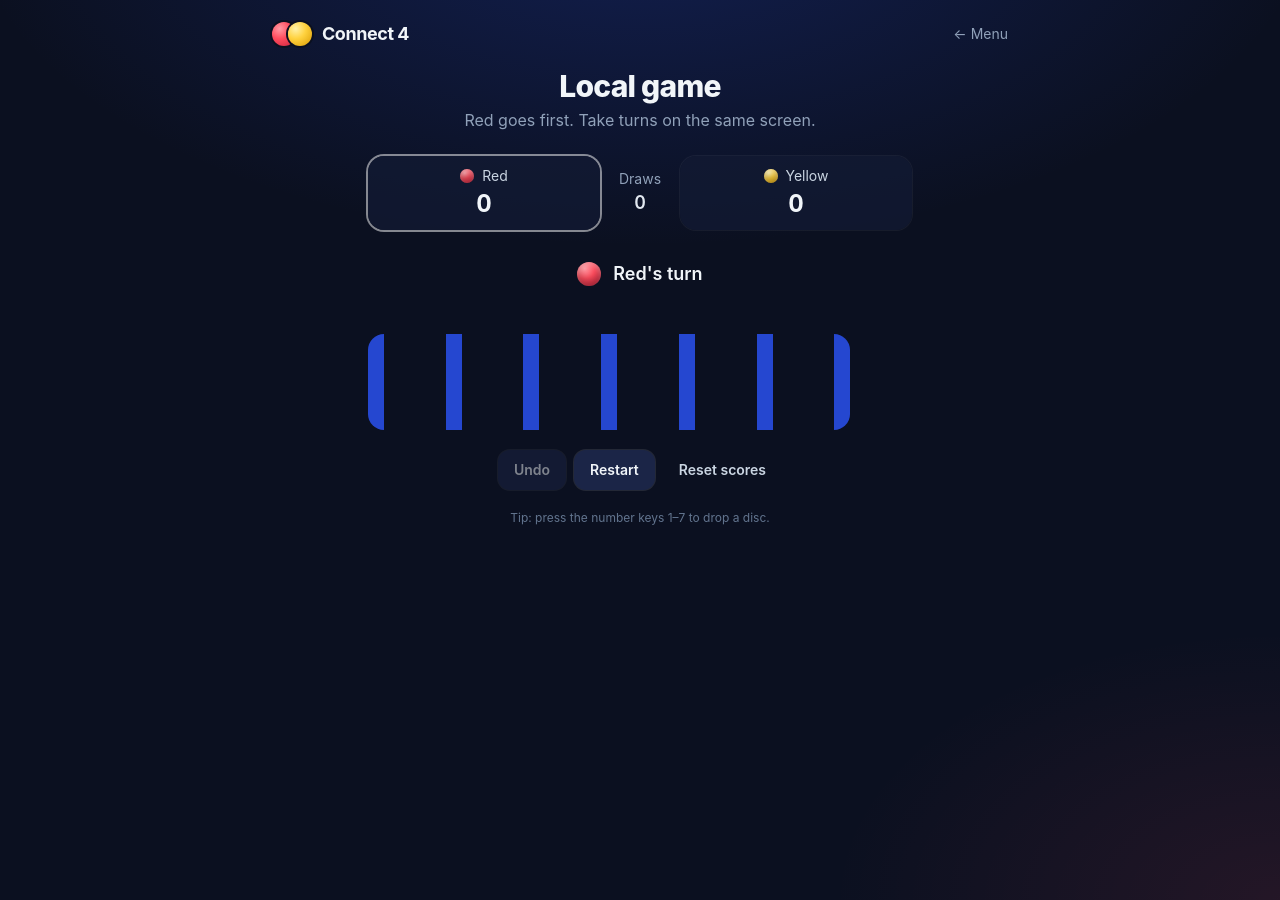
Test: local game › undo takes back the last move
Check: the button "Undo" is disabled, box [498,450,566,490]
Step 1. Click the button named "Drop disc in column 4" → (640, 374), box [601,318,679,430]
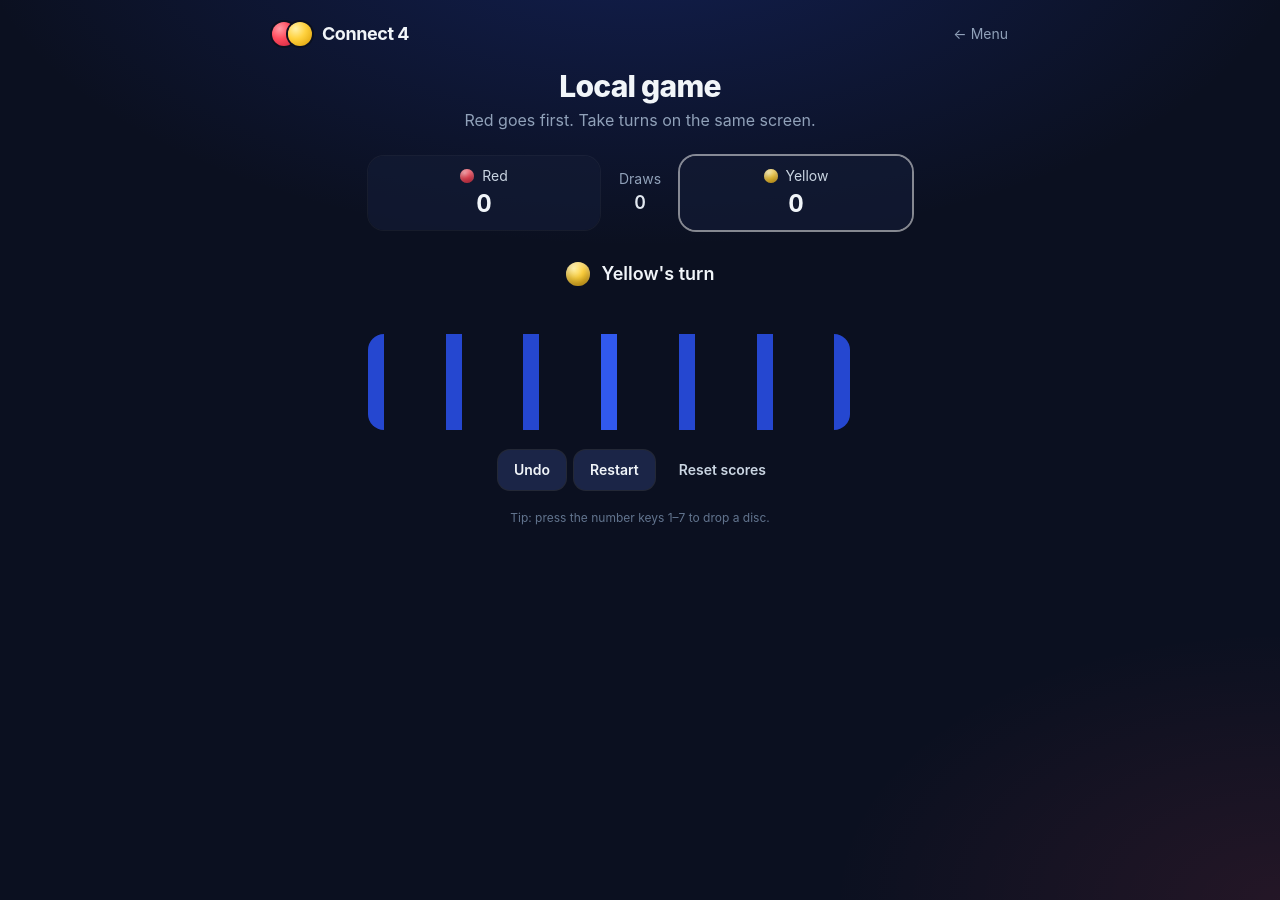
Check: the message reads "Yellow's turn", box [602,263,714,284]
Step 2. Click the button "Undo" → (532, 470), box [498,450,566,490]
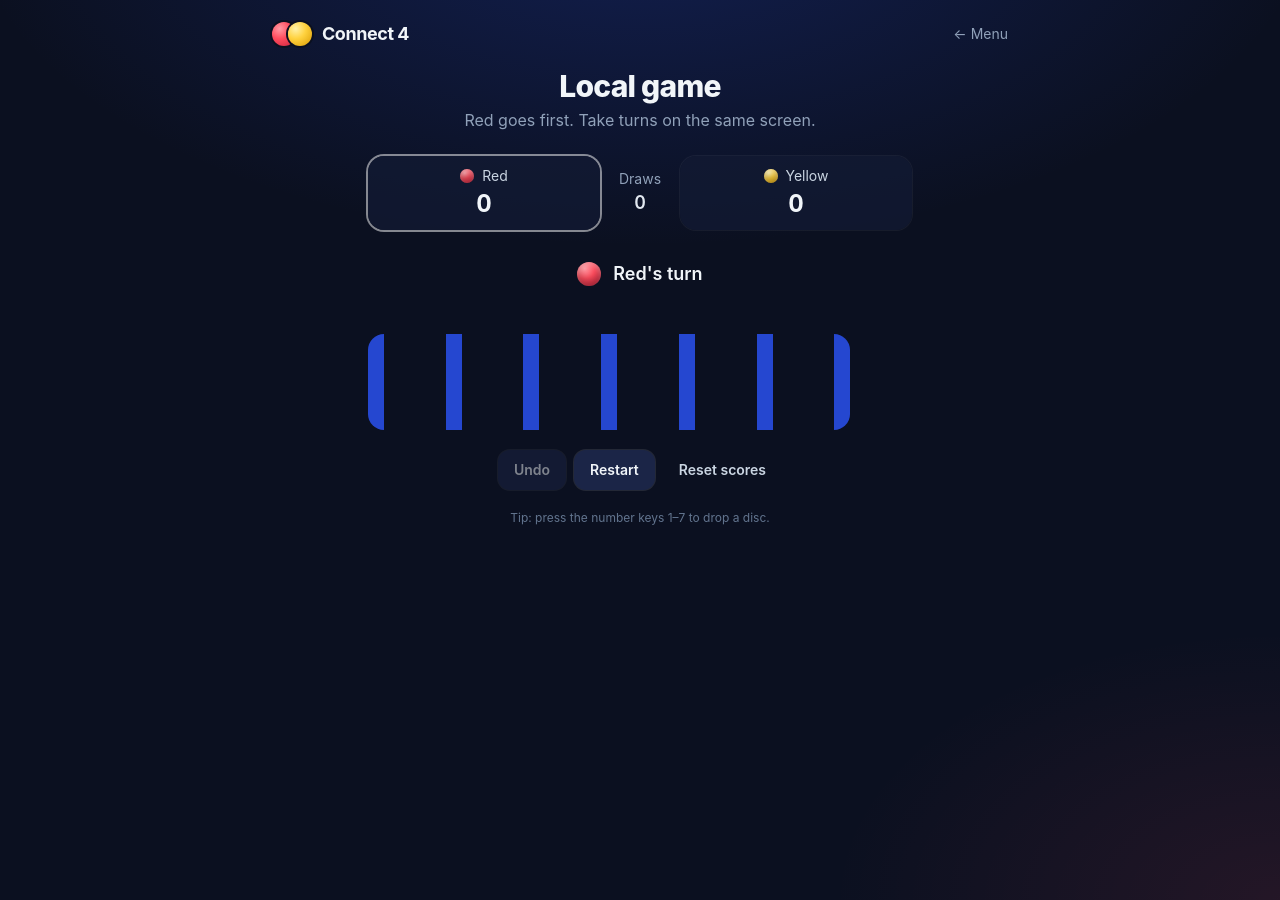
Check: the message reads "Red's turn", box [613,263,703,284]
Check: the button "Undo" is disabled, box [498,450,566,490]
